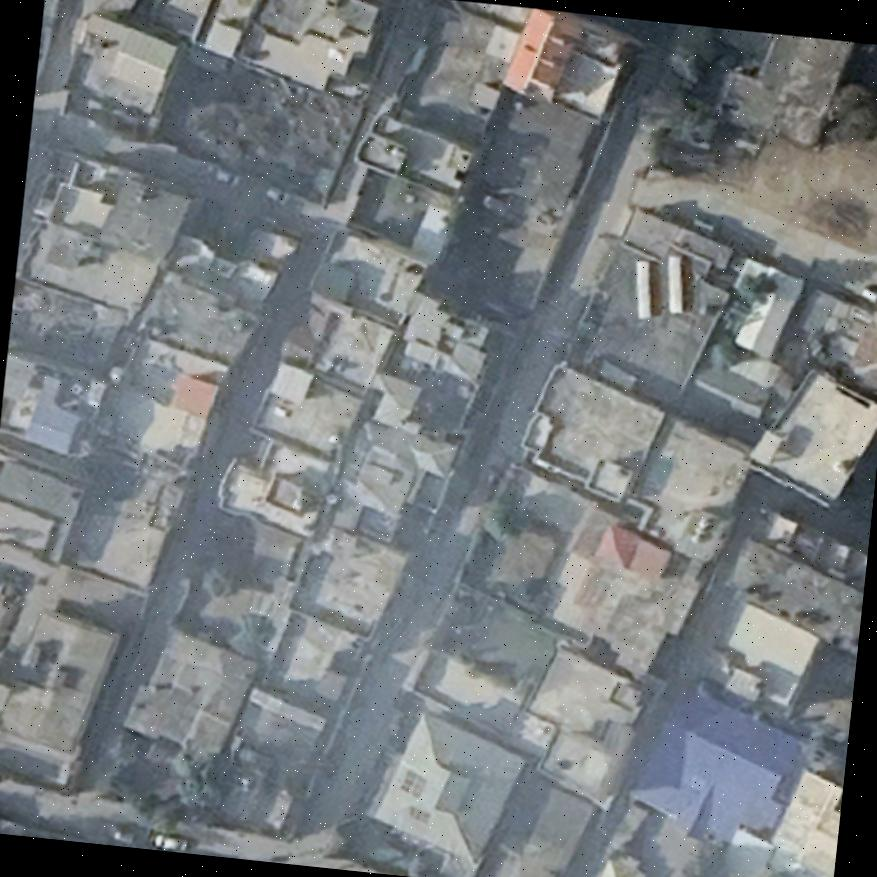Solarpanel: (397, 765, 428, 796), (405, 803, 434, 824)
